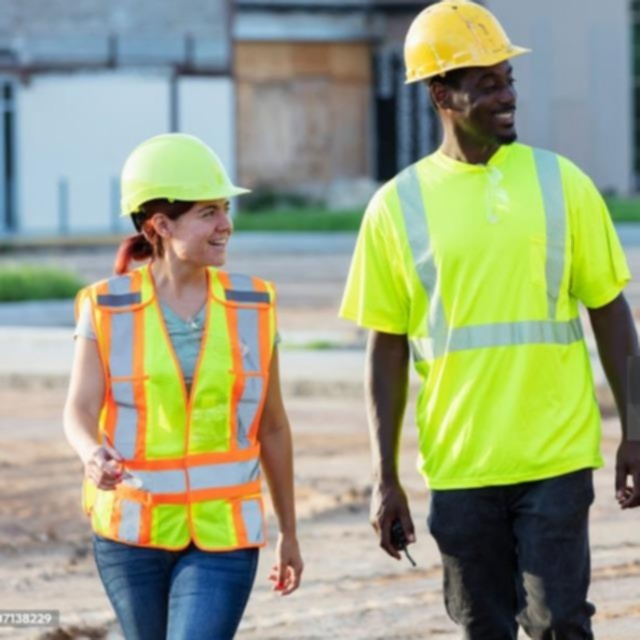Con_Chaleco: (380, 141, 599, 471), (91, 269, 276, 559)
